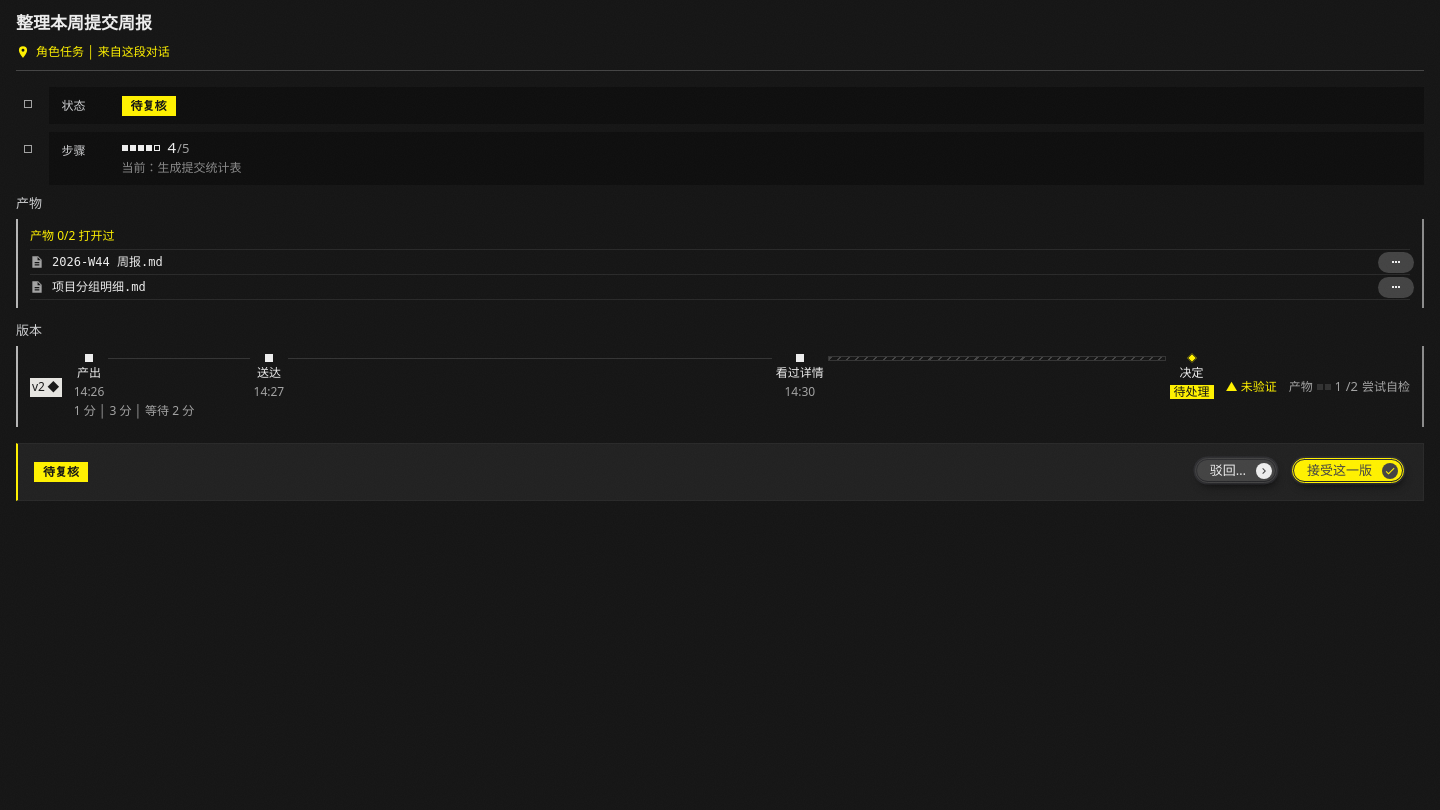
Test: reject and drawer › the drawer opens the requirement box before rejecting
This screenshot has width=1440, height=810.
Expected: the text "驳回并继续" is not shown
Click the button "驳回…" at coordinates (1236, 472), box [1192,456,1281,488]
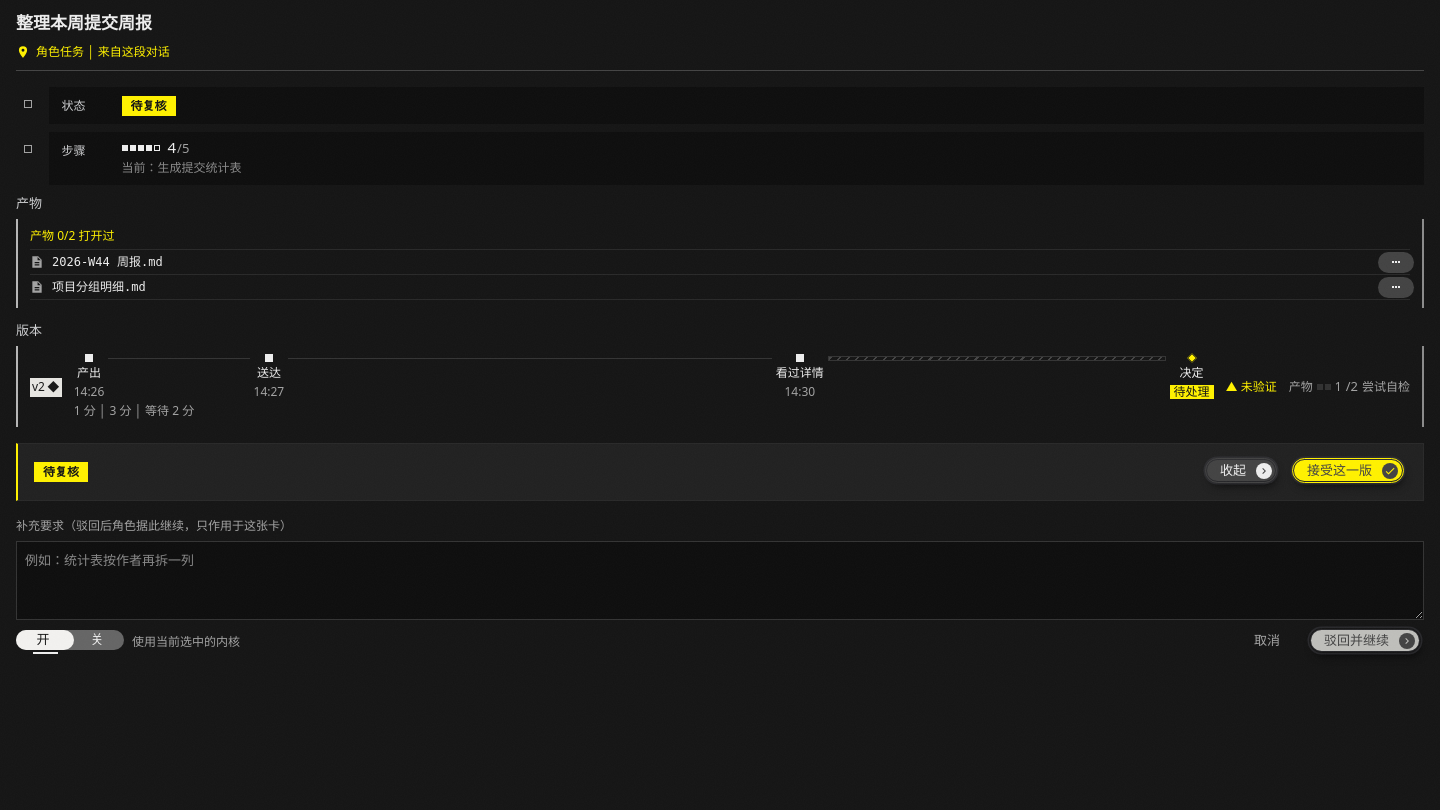
Now the text "驳回并继续" is shown, box [1324,634,1389,647]
